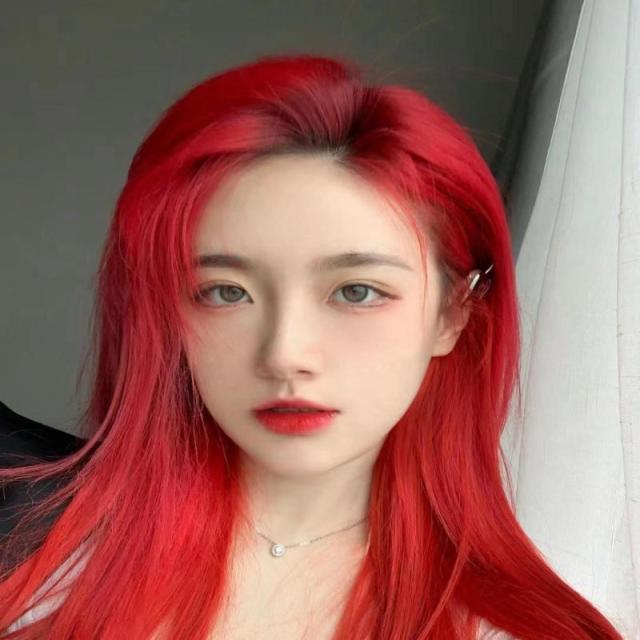Nonhelmet: (128, 84, 511, 488)
